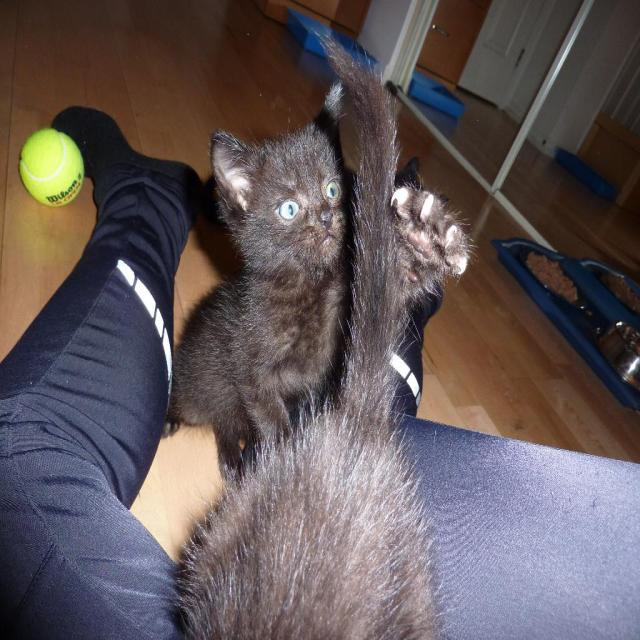Tennis ball: (19, 124, 85, 210)
